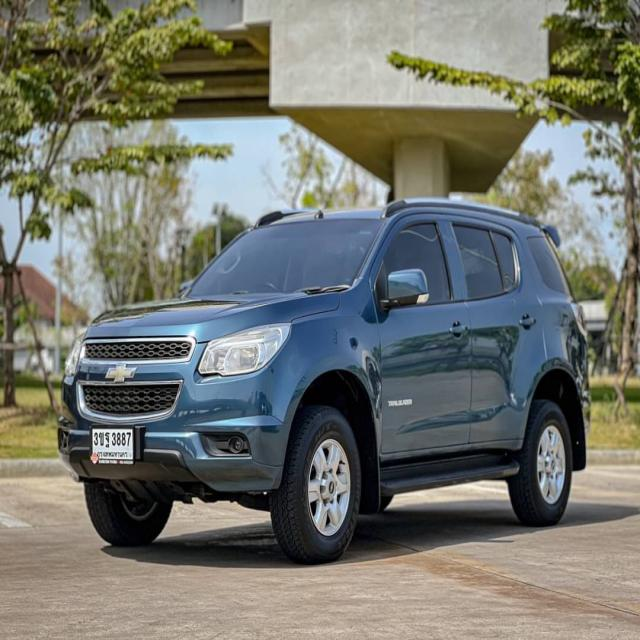license_plate: (87, 421, 142, 467)
